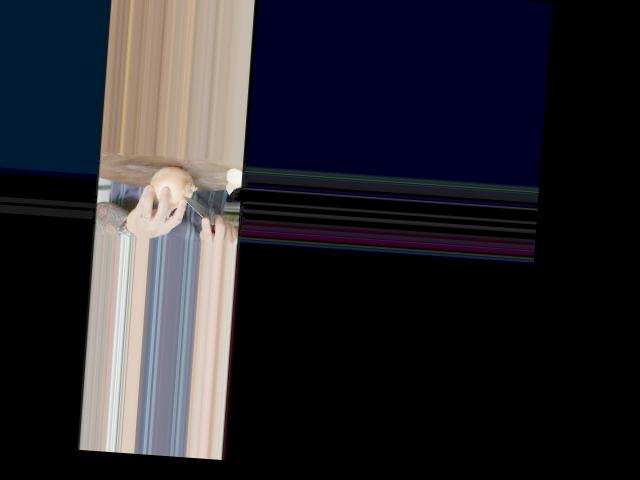onion: (145, 167, 195, 207)
